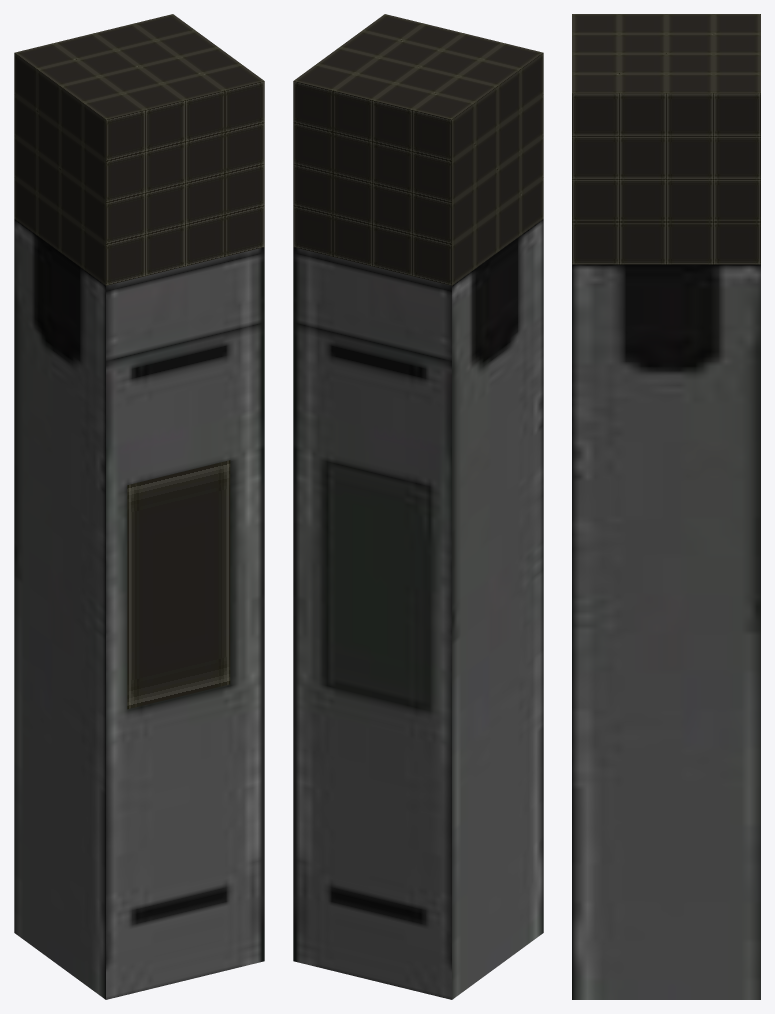
The model's file is future-crossing-light.obj.
3 views of the same model, side by side, from view 1: azimuth 30°, elevation 25°; view 2: azimuth 150°, elevation 25°; view 3: azimuth 270°, elevation 25° (orthographic). The views are drawn at different scales.
Parts seen in each view (by area): view 1: Mesh1 NM_Crossing_Light1 Model; view 2: Mesh1 NM_Crossing_Light1 Model; view 3: Mesh1 NM_Crossing_Light1 Model.
Part boxes in pixels (bbox=[...]): Mesh1 NM_Crossing_Light1 Model: bbox=[14, 14, 264, 999]; Mesh1 NM_Crossing_Light1 Model: bbox=[293, 14, 543, 999]; Mesh1 NM_Crossing_Light1 Model: bbox=[572, 14, 760, 999].
Bounding box in the file's own units: 0.2 × 1.06 × 0.2.
